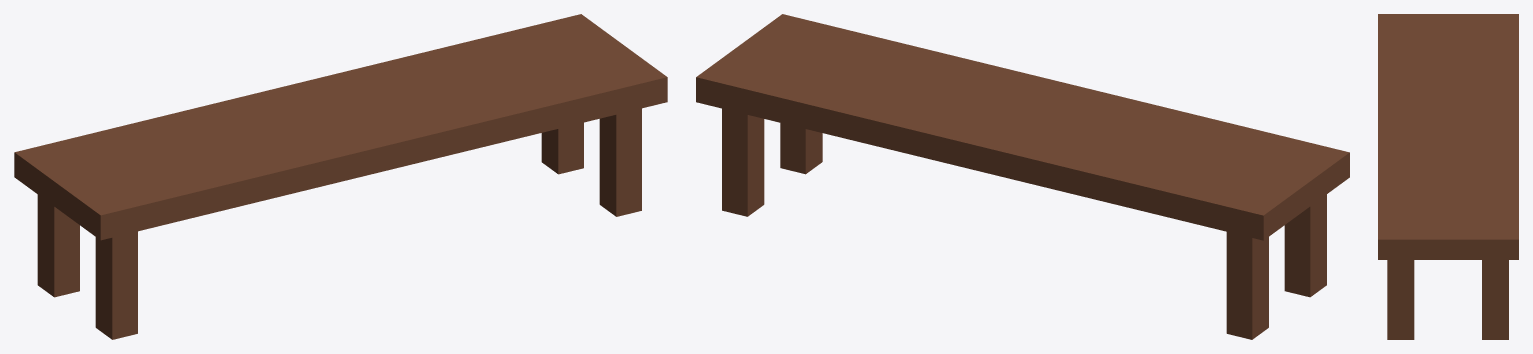
File: Bench.fbx
3 views of the same model, side by side, from view 1: azimuth 30°, elevation 25°; view 2: azimuth 150°, elevation 25°; view 3: azimuth 270°, elevation 25° (orthographic). The views are drawn at different scales.
Visible parts, largest first — view 1: Bench; view 2: Bench; view 3: Bench.
Part boxes in pixels (x1=…): Bench: x1=14, y1=14, x2=667, y2=339; Bench: x1=696, y1=14, x2=1349, y2=339; Bench: x1=1378, y1=14, x2=1518, y2=339.
Size of the model in its own units: 331 by 74.05 by 87.17.
